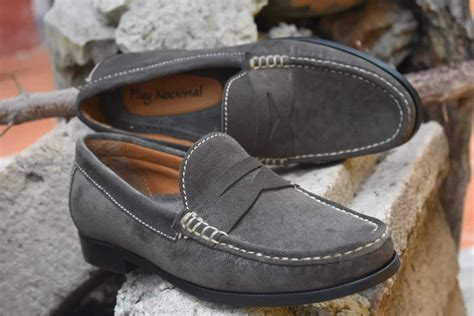gamuza: (70, 39, 415, 295)
